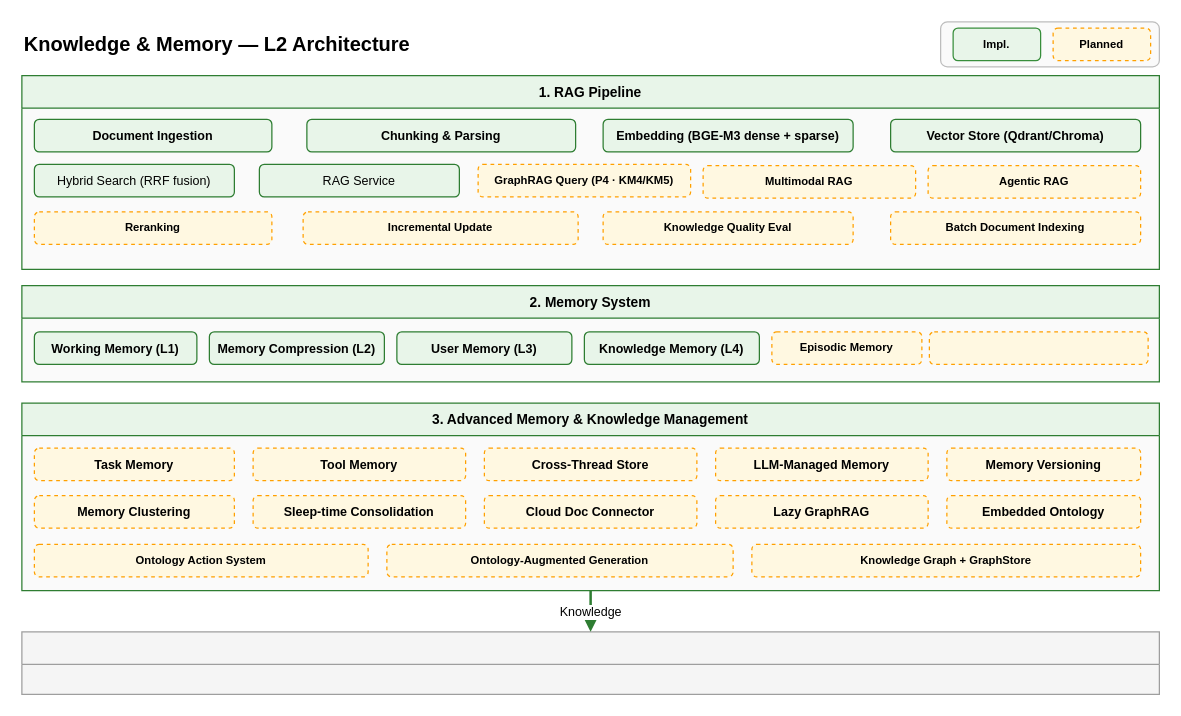
This 1181x716 diagram has some shape labels left out. Each missing label, with the centre of its shape:
Temporal Memory: the point at 1038,347
To Agent Engine — Knowledge Query & Memory via EnginePort: the point at 590,662
